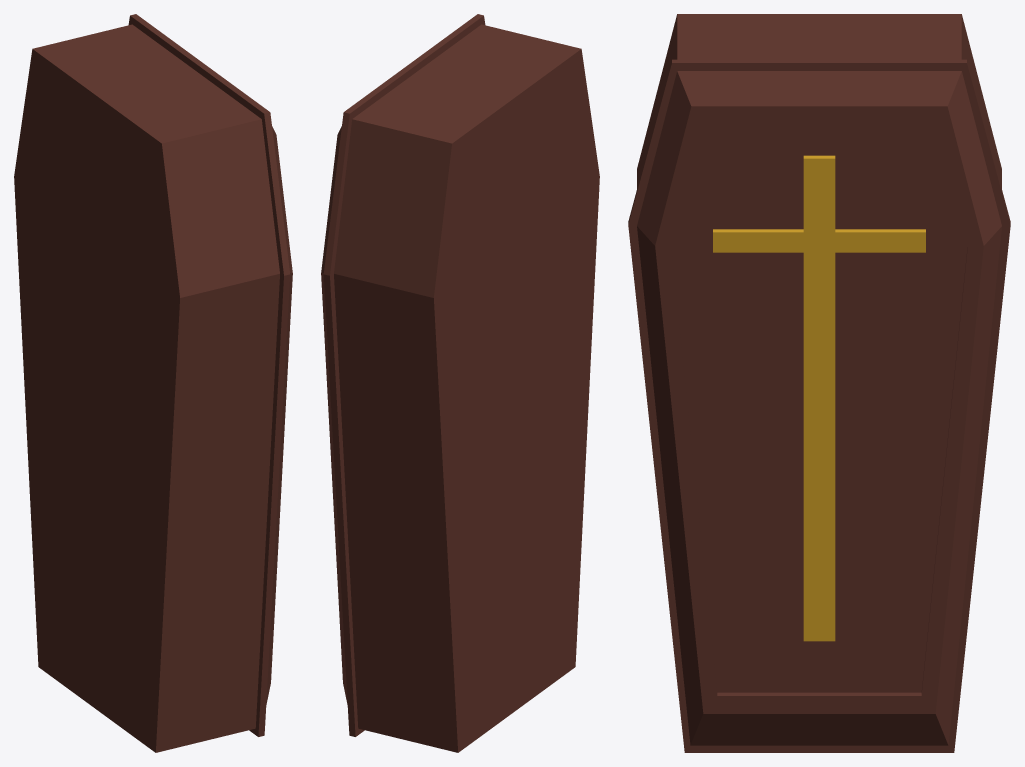
Rendered from ataud.fbx.
3 renders of one model, left to right at view 1: azimuth 30°, elevation 25°; view 2: azimuth 150°, elevation 25°; view 3: azimuth 270°, elevation 25°, orthographic. The views are drawn at different scales.
Parts seen in each view (by area): view 1: Cube.008; view 2: Cube.008; view 3: Cube.008.
Part boxes in pixels (x1,y1,x2,y2): Cube.008: (14, 14, 292, 752); Cube.008: (321, 14, 599, 752); Cube.008: (628, 14, 1010, 752).
Size of the model in its own units: 50.41 by 250 by 125.
